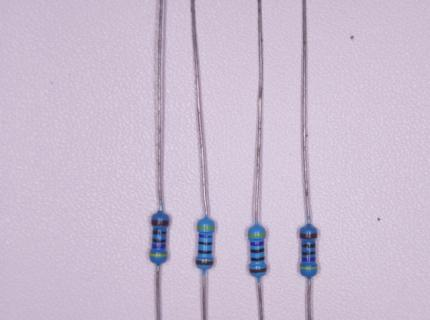Black band: (152, 229, 167, 235), (197, 249, 212, 255), (198, 241, 213, 246), (250, 248, 265, 253), (152, 238, 166, 243), (250, 257, 265, 261), (301, 244, 316, 248), (301, 251, 316, 255)
Brown band: (299, 232, 318, 239), (151, 219, 169, 226), (249, 267, 267, 273), (196, 260, 214, 266)
Violet band: (151, 243, 167, 249), (301, 257, 316, 262), (250, 241, 264, 246), (199, 234, 213, 238)
Yellow band: (248, 232, 266, 238), (197, 225, 216, 230), (300, 266, 318, 270), (150, 253, 167, 257)
